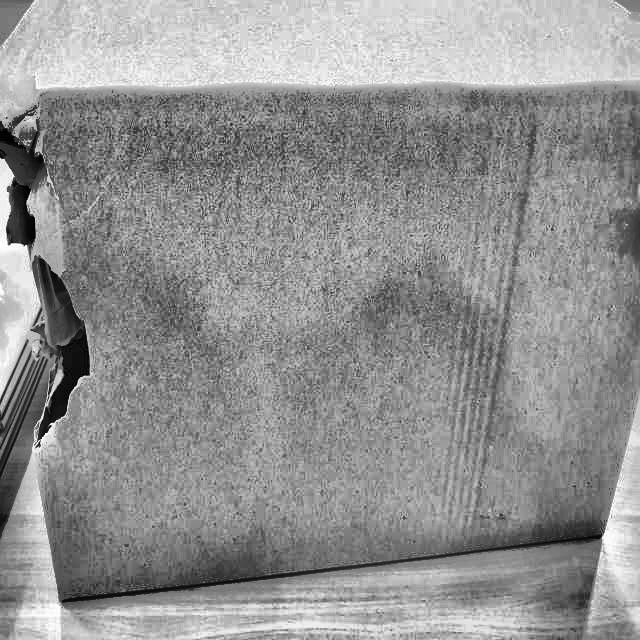box: (1, 0, 639, 615)
hole: (7, 107, 101, 439)
